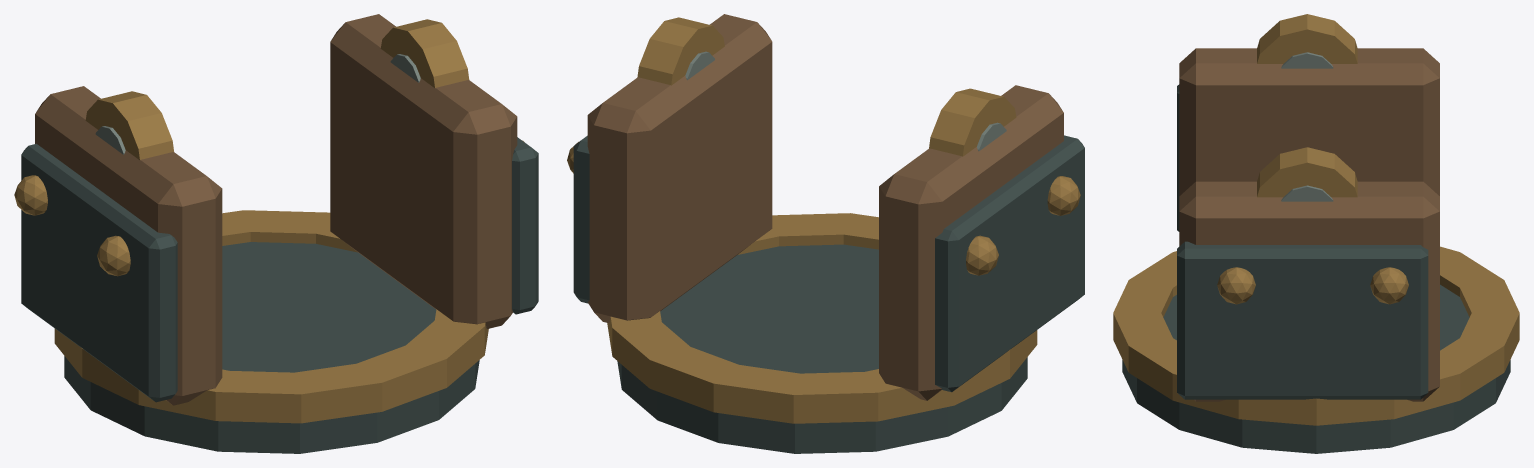
File: gun_mount_3.glb
3 views of the same model, side by side, from view 1: azimuth 30°, elevation 25°; view 2: azimuth 150°, elevation 25°; view 3: azimuth 270°, elevation 25° (orthographic). The views are drawn at different scales.
Parts seen in each view (by area): view 1: Metal, Timber; view 2: Metal, Timber; view 3: Metal, Timber.
Part boxes in pixels (x1,y1,x2,y2): Metal: (14, 19, 538, 453); Timber: (35, 14, 517, 405); Metal: (567, 17, 1084, 453); Timber: (587, 14, 1063, 400); Metal: (1113, 14, 1519, 453); Timber: (1179, 48, 1439, 401).
Size of the model in its own units: 2.02 by 1.37 by 1.78.
